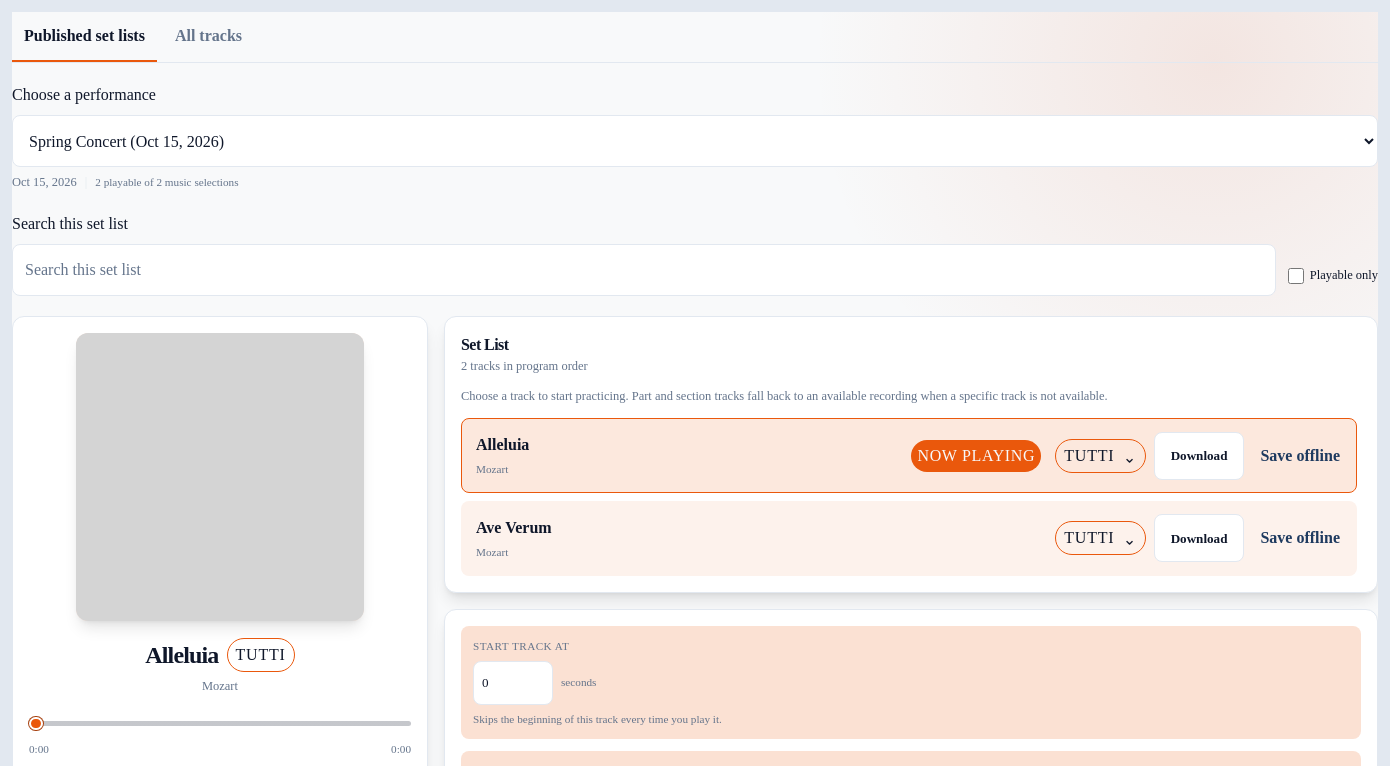
MemberPracticeView playable-only filter › renders the playable-only toggle and count badge
Click the tab "All tracks": click(208, 37) [163, 12, 254, 62]
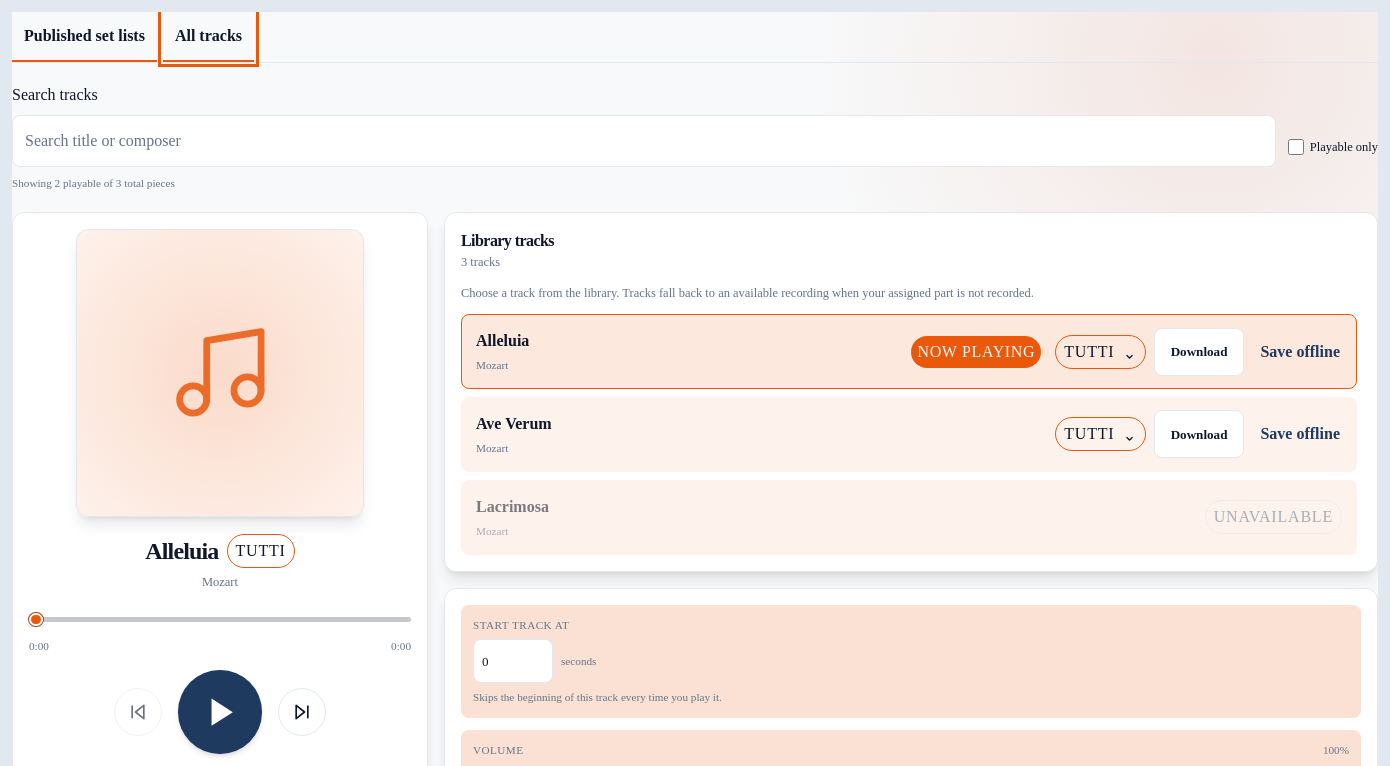
expect the checkbox labelled "Playable only" is not checked: met, box [1288, 139, 1304, 155]
expect the text "Showing 2 playable of 3 total pieces" is shown: met, box [12, 177, 175, 189]
expect the text "Lacrimosa" is shown: met, box [476, 495, 549, 519]
